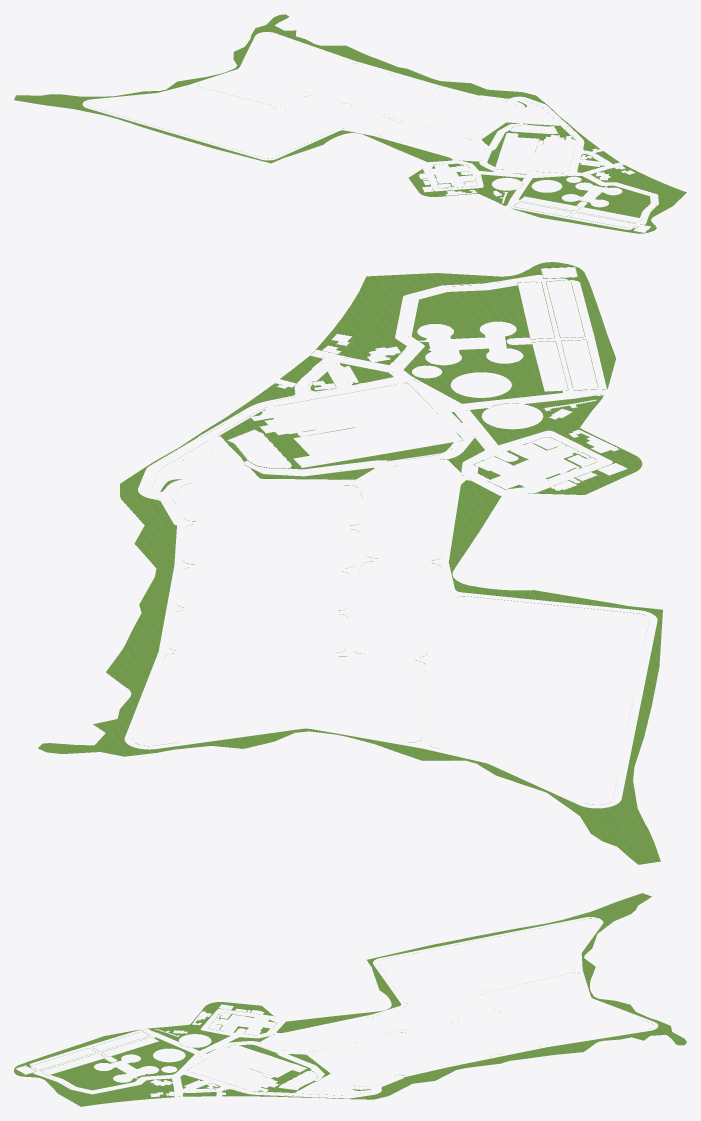
File: Espaces_verts.glb
3 renders of one model, top to bottom at view 1: azimuth 30°, elevation 25°; view 2: azimuth 150°, elevation 25°; view 3: azimuth 270°, elevation 25°, orthographic. The views are drawn at different scales.
Parts seen in each view (by area): view 1: Gazon_paspalum; view 2: Gazon_paspalum; view 3: Gazon_paspalum.
Part boxes in pixels (x1,y1,x2,y2): Gazon_paspalum: [14, 14, 686, 233]; Gazon_paspalum: [38, 262, 662, 864]; Gazon_paspalum: [14, 893, 686, 1106].
Bounding box in the file's own units: 578 × 0.094 × 770.
Materials: 1 (1 with a texture image).
